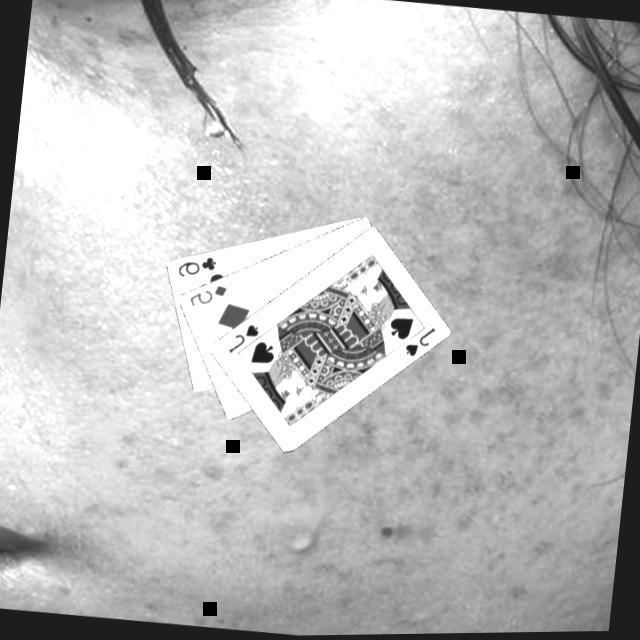5D: (186, 278, 231, 312)
6C: (175, 250, 220, 282)
JS: (401, 320, 441, 362), (226, 317, 264, 358)
